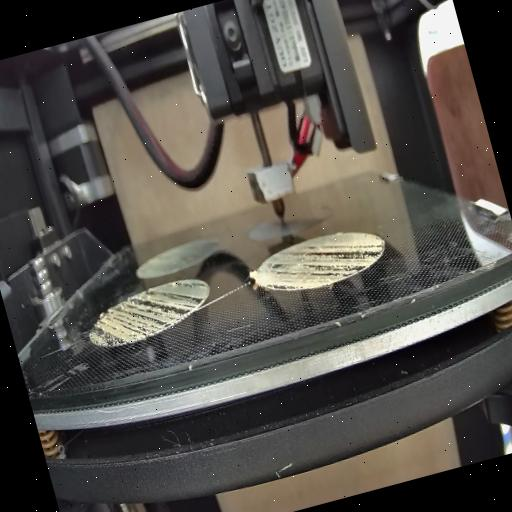under_extrusion: (84, 272, 214, 352), (258, 226, 388, 298)
